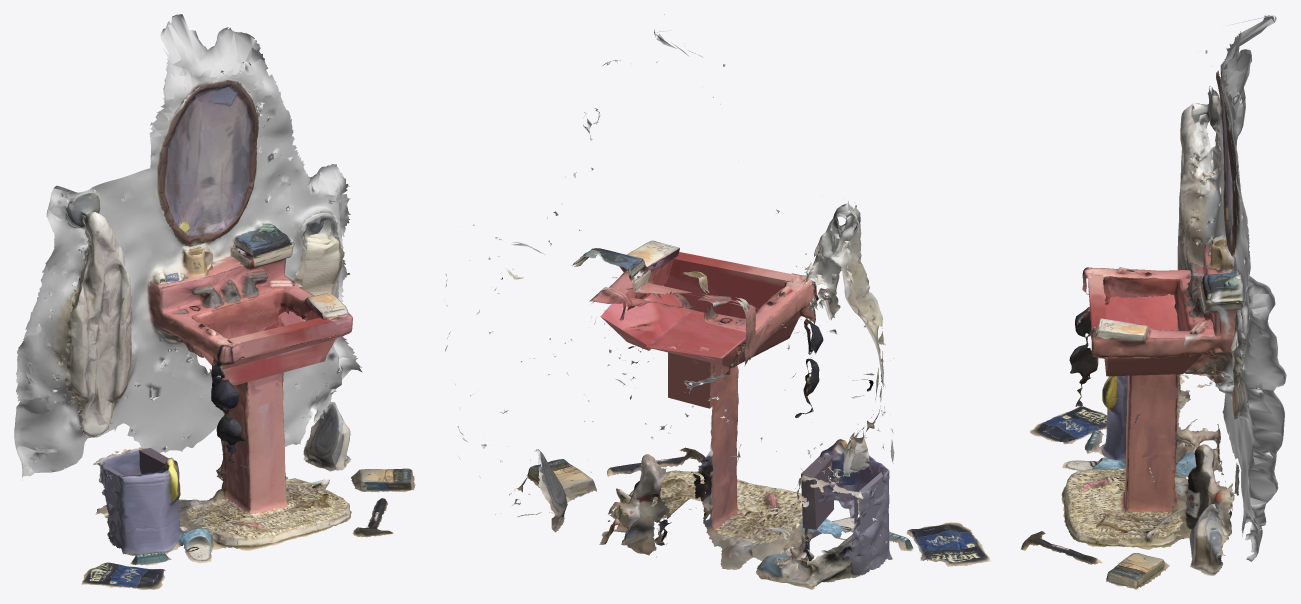
The model's file is kristina3.glb.
The picture shows the model from 3 angles, left to right: view 1: azimuth 30°, elevation 25°; view 2: azimuth 150°, elevation 25°; view 3: azimuth 270°, elevation 25°; orthographic projection. The views are drawn at different scales.
Visible parts, largest first — view 1: mmGroup0, mmGroup0.001, Cube; view 2: mmGroup0, Cube, mmGroup0.001; view 3: mmGroup0, mmGroup0.001, Cube.
Part boxes in pixels (left/top/right/bottom): mmGroup0: left=64, top=79, right=415, bottom=589; mmGroup0.001: left=14, top=14, right=362, bottom=480; Cube: left=102, top=299, right=349, bottom=505; mmGroup0: left=495, top=202, right=991, bottom=589; Cube: left=600, top=241, right=884, bottom=534; mmGroup0.001: left=445, top=14, right=894, bottom=543; mmGroup0: left=1021, top=70, right=1246, bottom=589; mmGroup0.001: left=1183, top=15, right=1286, bottom=561; Cube: left=1088, top=274, right=1203, bottom=416.
Bounding box in the file's own units: 17.24 × 20.81 × 10.28.
Materials: 3 (3 with a texture image).
